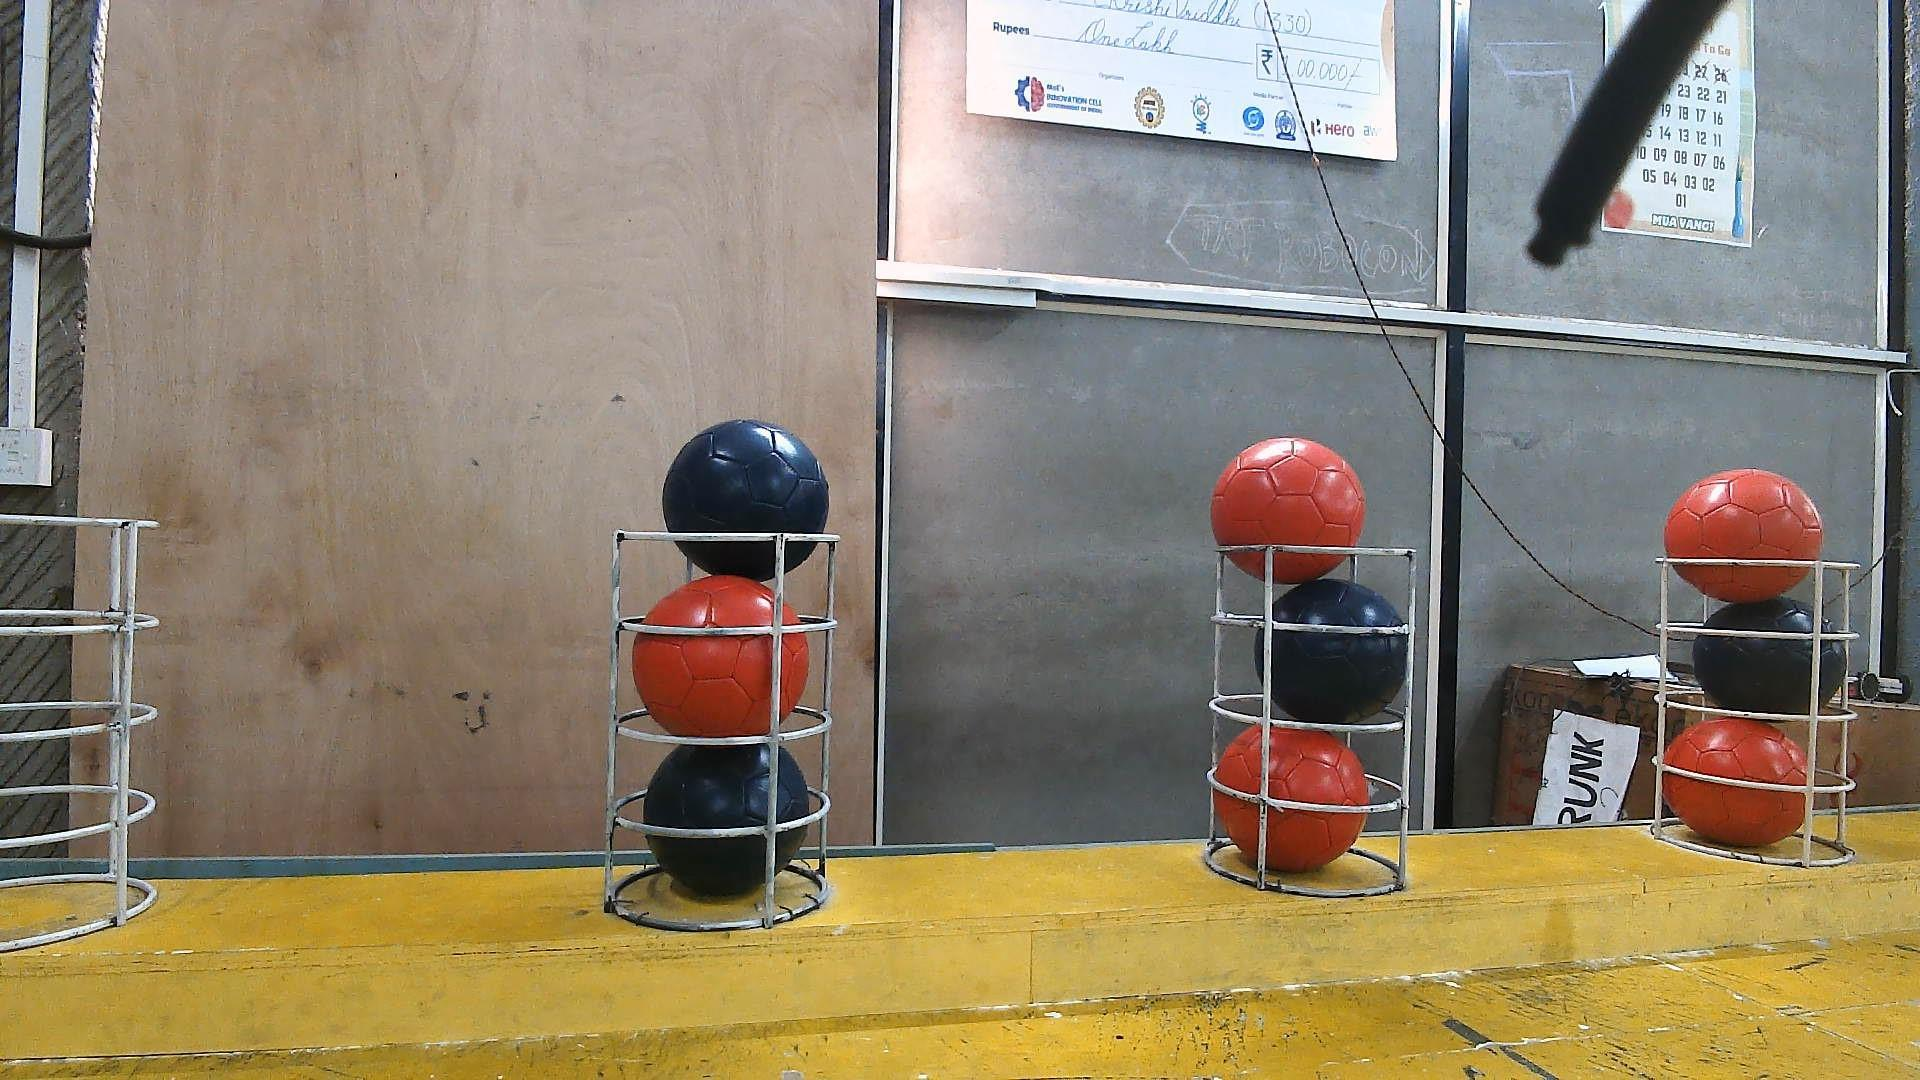dhoka: (659, 419, 828, 582), (641, 742, 810, 897), (1253, 578, 1410, 724), (1692, 596, 1849, 716)
laale: (630, 574, 810, 738), (1215, 724, 1369, 874), (1212, 439, 1365, 585), (1665, 468, 1822, 604), (1662, 716, 1815, 848)
